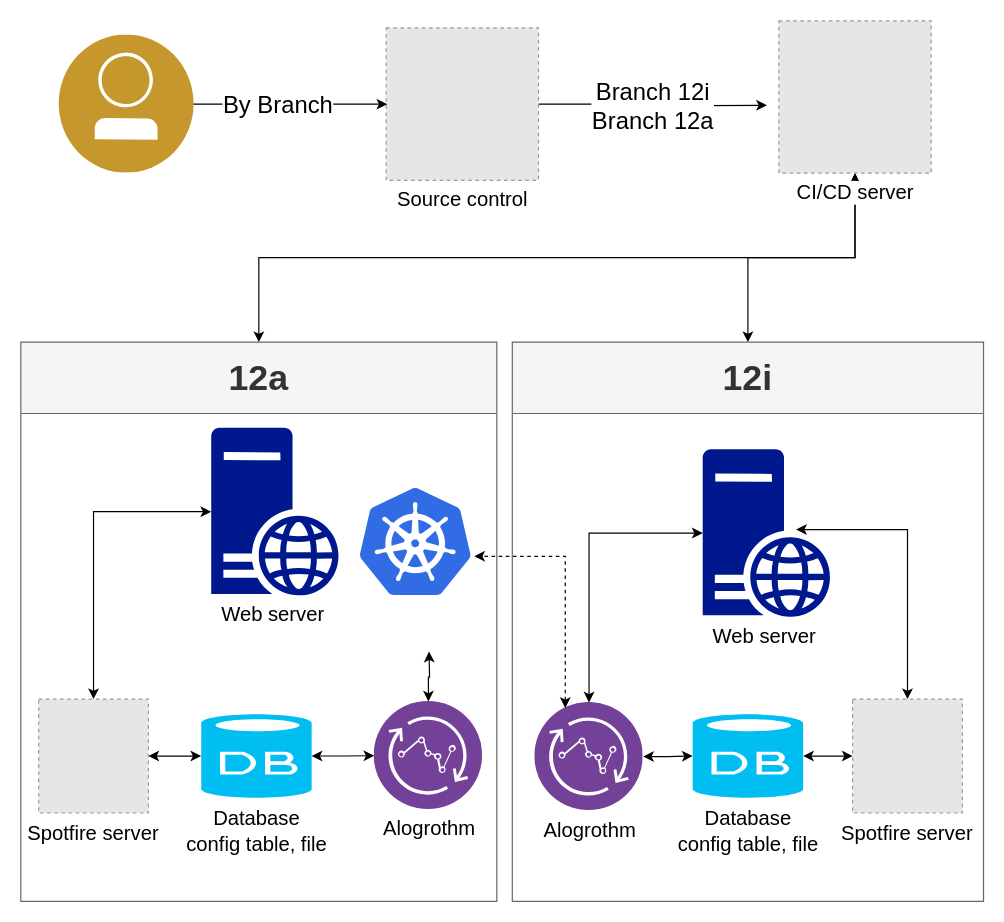
Some shapes in this 1004 by 922 pixel diagram are drawn without their labels. Grey dashed boxes stand in for pictures. The centre of each missing label's shape, as x and y in pixels:
"Developer" goes at (x=126, y=104).
"Kubernetes Services" goes at (x=415, y=541).
